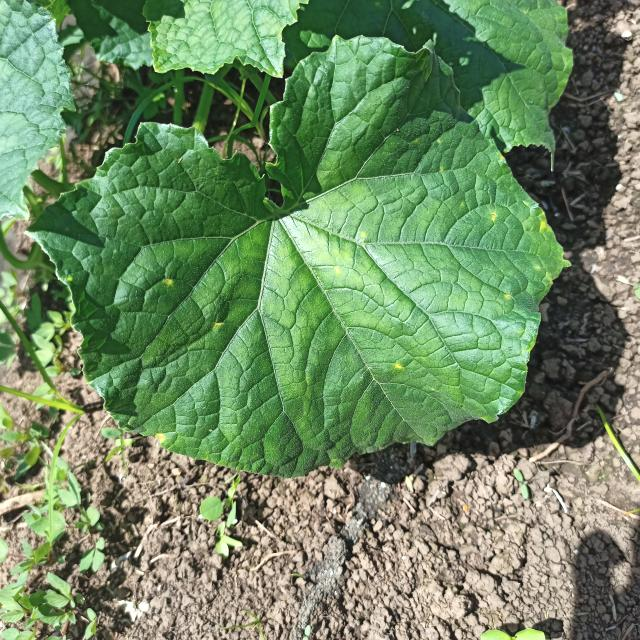disease_cucumber: (538, 214, 551, 232), (156, 433, 164, 442), (65, 275, 73, 283), (165, 278, 172, 287), (213, 321, 223, 327), (490, 212, 497, 220), (334, 268, 340, 275), (500, 155, 506, 161), (395, 364, 402, 369), (360, 233, 365, 238), (504, 294, 510, 298), (439, 168, 444, 172)
